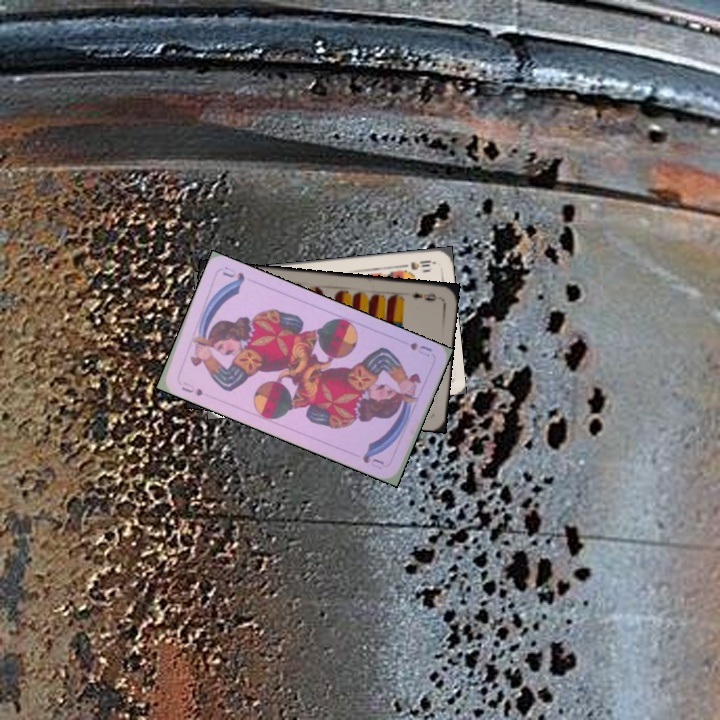E9: (409, 289, 440, 304)
S10: (397, 256, 437, 272)
SU: (404, 338, 435, 360), (177, 377, 205, 399)
